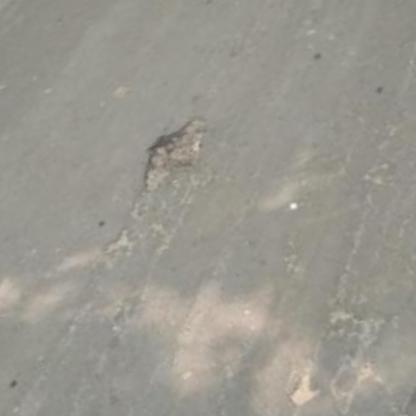pothole: (123, 110, 223, 196), (280, 368, 325, 409)
